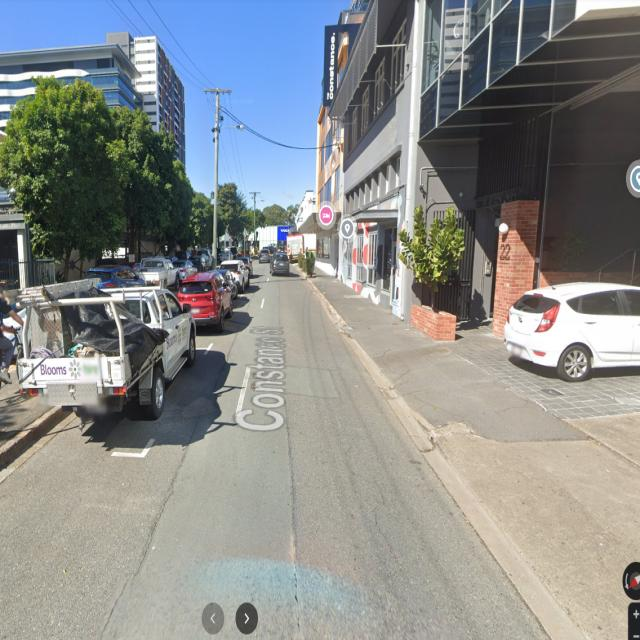crossarm: (203, 88, 231, 93), (249, 192, 261, 194)
streetlight: (216, 124, 245, 133)
timber-pole: (212, 87, 220, 271), (253, 190, 256, 257)
